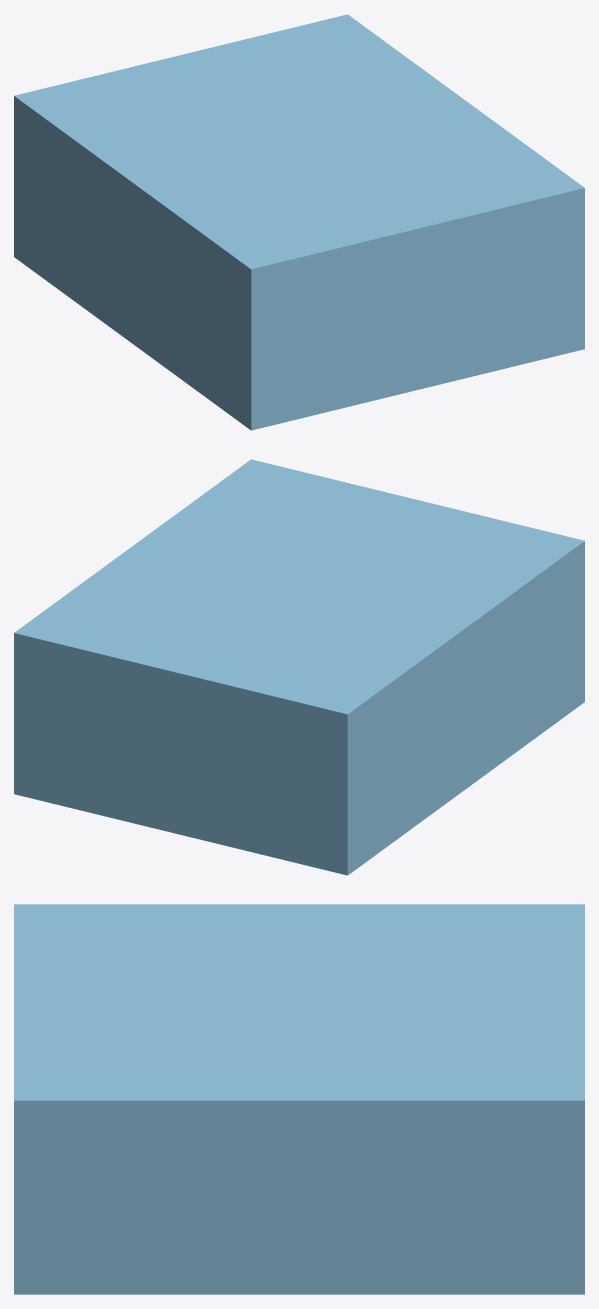
The model's file is ifv.gltf.
3 renders of one model, top to bottom at view 1: azimuth 30°, elevation 25°; view 2: azimuth 150°, elevation 25°; view 3: azimuth 270°, elevation 25°, orthographic. The views are drawn at different scales.
Size of the model in its own units: 1.3 by 0.6 by 1.6.
